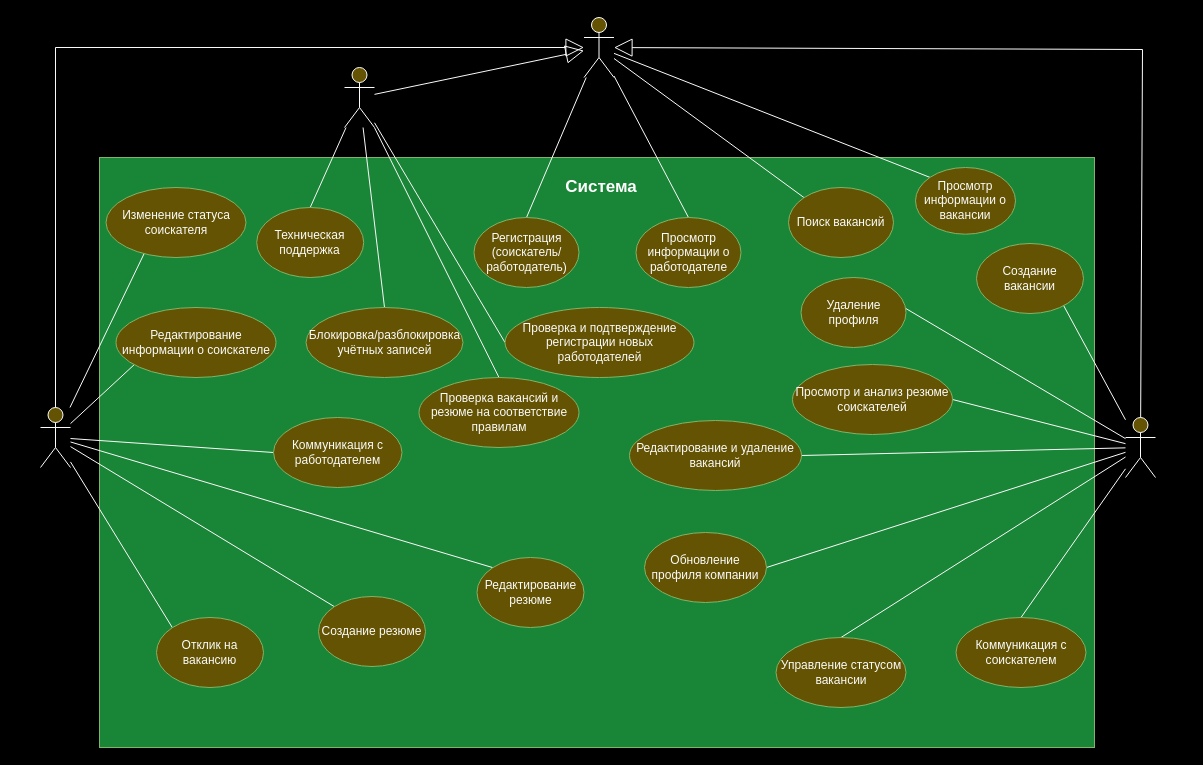
Some shapes in this 1203 by 765 pixel diagram are drawn without their labels. Each missing label, with the centre of its shape:
"Администратор" goes at (359,97).
"Гость" goes at (598,47).
"Работодатель" goes at (1140,447).
"Соискатель" goes at (55,437).
